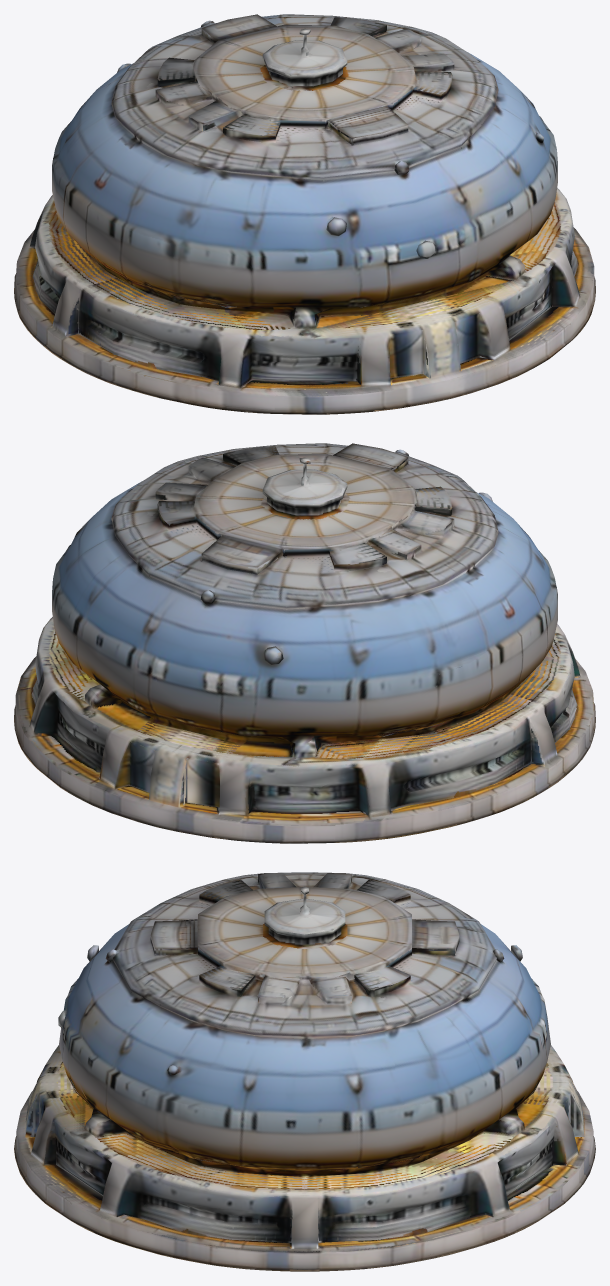
The picture shows the model from 3 angles, top to bottom: view 1: azimuth 30°, elevation 25°; view 2: azimuth 150°, elevation 25°; view 3: azimuth 270°, elevation 25°; orthographic projection.
Visible parts, largest first — view 1: object.001; view 2: object.001; view 3: object.001.
Part boxes in pixels (bbox=[...]): object.001: bbox=[14, 14, 595, 414]; object.001: bbox=[14, 443, 595, 843]; object.001: bbox=[14, 872, 595, 1271].
Bounding box in the file's own units: 103 × 51.05 × 103.
Materials: 1 (1 with a texture image).
